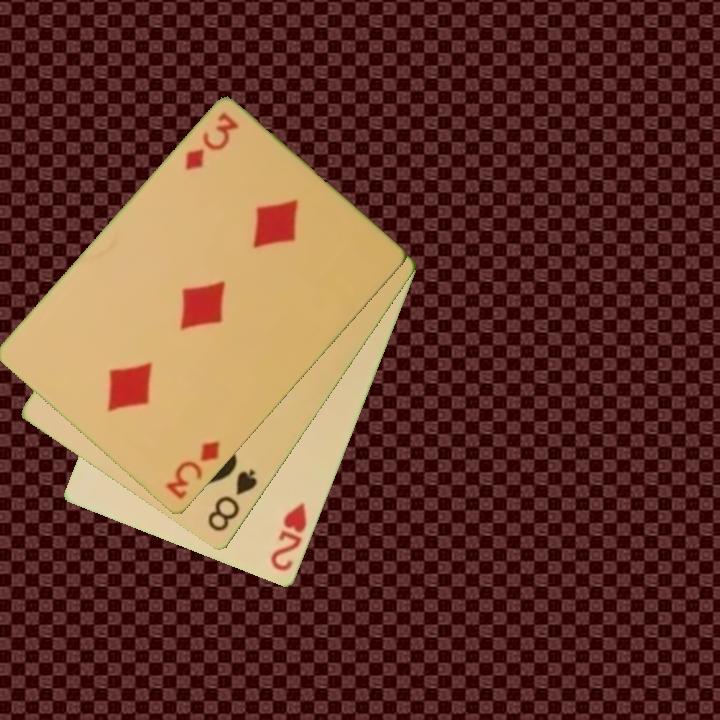2h: (267, 500, 310, 575)
3d: (181, 109, 243, 175), (162, 437, 223, 503)
8s: (204, 466, 261, 535)
